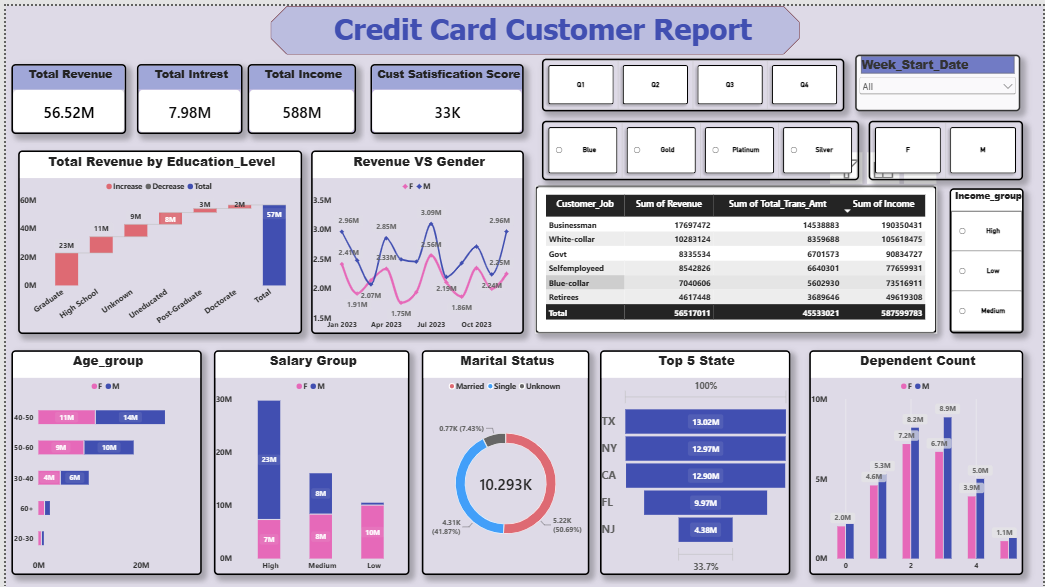

The dashboard page shown, as its layout file describes it:
{"tool":"powerbi","page":{"name":"Credit Card Customer Report ","canvas":[1920,1080],"ordinal":0},"visuals":[{"type":"shape","box":[489.3,0,980,90],"z":0},{"type":"textbox","box":[606.8,9.8,974.6,69.5],"z":1000},{"type":"cardVisual","title":"Total Revenue","fields":{"Data":["Credit Card.Total Revenue"]},"box":[9.8,107.7,212.9,129.7],"z":2000},{"type":"cardVisual","title":"Total Intrest","fields":{"Data":["Sum(Credit Card.Interest_Earned)"]},"box":[242.2,107.7,195.7,129.7],"z":3000},{"type":"cardVisual","title":"Total Income","fields":{"Data":["Sum(customer.Income)"]},"box":[447.7,107.7,200.6,129.7],"z":4000},{"type":"cardVisual","title":"Cust Satisfication Score","fields":{"Data":["Sum(customer.Cust_Satisfaction_Score)"]},"box":[675.3,107.7,283.8,129.7],"z":5000},{"type":"lineChart","title":" Revenue VS Gender","fields":{"Category":["Credit Card.Week_Start_Date.Variation.Date Hierarchy.Year","Credit Card.Week_Start_Date.Variation.Date Hierarchy.Quarter","Credit Card.Week_Start_Date.Variation.Date Hierarchy.Month","Credit Card.Week_Start_Date.Variation.Date Hierarchy.Day"],"Series":["customer.Gender"],"Y":["Sum(Credit Card.Revenue)"]},"box":[565.2,266.7,393.9,340.1],"z":6000},{"type":"barChart","title":" Age_group","fields":{"Category":["customer.Age_group"],"Series":["customer.Gender"],"Y":["Credit Card.Total Revenue"]},"box":[9.8,638.6,352.3,415.9],"z":7000},{"type":"funnel","title":"Top 5 State","fields":{"Category":["customer.state_cd"],"Y":["Credit Card.Total Revenue"]},"box":[1101,638.6,352.3,415.9],"z":8000},{"type":"columnChart","title":"Salary Group","fields":{"Category":["customer.Income_group"],"Series":["customer.Gender"],"Y":["Credit Card.Total Revenue"]},"box":[384.1,638.6,362.1,415.9],"z":9000},{"type":"lineClusteredColumnComboChart","title":"Dependent Count ","fields":{"Category":["customer.Dependent_Count"],"Series":["customer.Gender"],"Y":["Credit Card.Total Revenue"]},"box":[1487.6,638.6,396.4,415.9],"z":10000},{"type":"donutChart","title":" Marital Status","fields":{"Category":["customer.Marital_Status"],"Y":["CountNonNull(customer.Gender)"]},"box":[770.7,638.6,310.7,415.9],"z":11000},{"type":"waterfallChart","fields":{"Category":["customer.Education_Level"],"Y":["Credit Card.Total Revenue"]},"box":[22,266.7,526,340.1],"z":12000},{"type":"tableEx","fields":{"Values":["customer.Customer_Job","Sum(Credit Card.Revenue)","Sum(Credit Card.Total_Trans_Amt)","Sum(customer.Income)"]},"box":[981.1,332.7,743.8,274],"z":13000},{"type":"advancedSlicerVisual","fields":{"Values":["Credit Card.Qtr"]},"box":[993.4,97.9,560.3,97.9],"z":14000},{"type":"advancedSlicerVisual","fields":{"Values":["customer.Gender"]},"box":[1597.7,212.9,286.3,110.1],"z":15000},{"type":"advancedSlicerVisual","fields":{"Values":["customer.Income_group"]},"box":[1746.9,337.6,137,269.1],"z":16000},{"type":"advancedSlicerVisual","fields":{"Values":["Credit Card.Card_Category"]},"box":[993.4,212.9,587.2,110.1],"z":17000},{"type":"slicer","fields":{"Values":["Credit Card.Week_Start_Date"]},"box":[1573.2,90.5,305.8,105.2],"z":18000},{"type":"actionButton","box":[1740,10,137,58.7],"z":19000}]}

Visuals, with their boxes in screenshot pixels (x1, y1, x2, y2), scaled from the page's 1920x1080 canvas onto the 1045x587 screenshot:
shape: {"left": 266, "top": 0, "right": 800, "bottom": 49}
textbox: {"left": 330, "top": 5, "right": 861, "bottom": 43}
"Total Revenue" cardVisual: {"left": 5, "top": 59, "right": 121, "bottom": 129}
"Total Intrest" cardVisual: {"left": 132, "top": 59, "right": 238, "bottom": 129}
"Total Income" cardVisual: {"left": 244, "top": 59, "right": 353, "bottom": 129}
"Cust Satisfication Score" cardVisual: {"left": 368, "top": 59, "right": 522, "bottom": 129}
" Revenue VS Gender" lineChart: {"left": 308, "top": 145, "right": 522, "bottom": 330}
" Age_group" barChart: {"left": 5, "top": 347, "right": 197, "bottom": 573}
"Top 5 State" funnel: {"left": 599, "top": 347, "right": 791, "bottom": 573}
"Salary Group" columnChart: {"left": 209, "top": 347, "right": 406, "bottom": 573}
"Dependent Count " lineClusteredColumnComboChart: {"left": 810, "top": 347, "right": 1025, "bottom": 573}
" Marital Status" donutChart: {"left": 419, "top": 347, "right": 589, "bottom": 573}
waterfallChart - customer.Education_Level x Credit Card.Total Revenue: {"left": 12, "top": 145, "right": 298, "bottom": 330}
tableEx - customer.Customer_Job x Sum(Credit Card.Revenue): {"left": 534, "top": 181, "right": 939, "bottom": 330}
advancedSlicerVisual - Credit Card.Qtr: {"left": 541, "top": 53, "right": 846, "bottom": 106}
advancedSlicerVisual - customer.Gender: {"left": 870, "top": 116, "right": 1025, "bottom": 176}
advancedSlicerVisual - customer.Income_group: {"left": 951, "top": 183, "right": 1025, "bottom": 330}
advancedSlicerVisual - Credit Card.Card_Category: {"left": 541, "top": 116, "right": 860, "bottom": 176}
slicer - Credit Card.Week_Start_Date: {"left": 856, "top": 49, "right": 1023, "bottom": 106}
actionButton: {"left": 947, "top": 5, "right": 1022, "bottom": 37}
